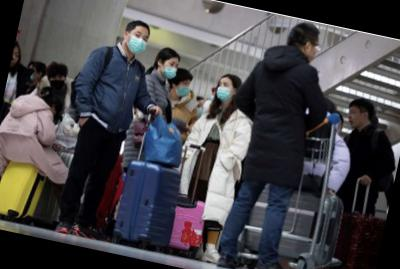with_mask: (125, 27, 151, 56), (214, 80, 235, 103), (160, 58, 181, 80), (174, 77, 192, 99), (48, 72, 67, 91)
without_mask: (345, 107, 364, 128), (309, 41, 322, 62), (11, 49, 22, 70)
